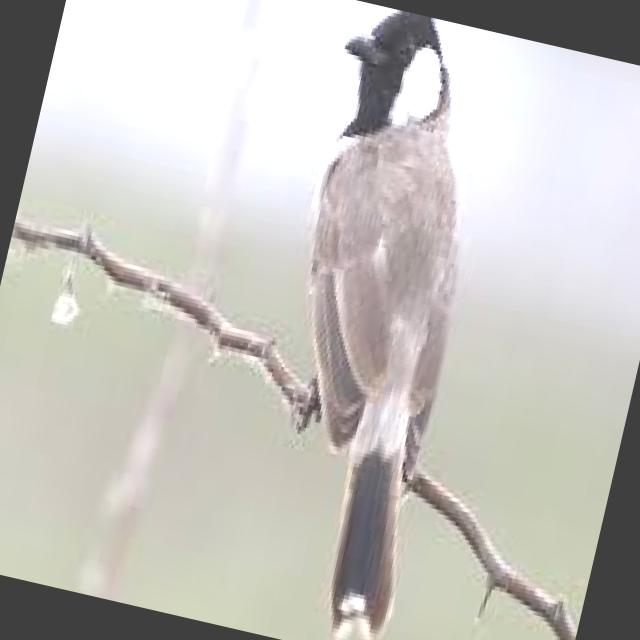bird: (209, 0, 529, 640)
